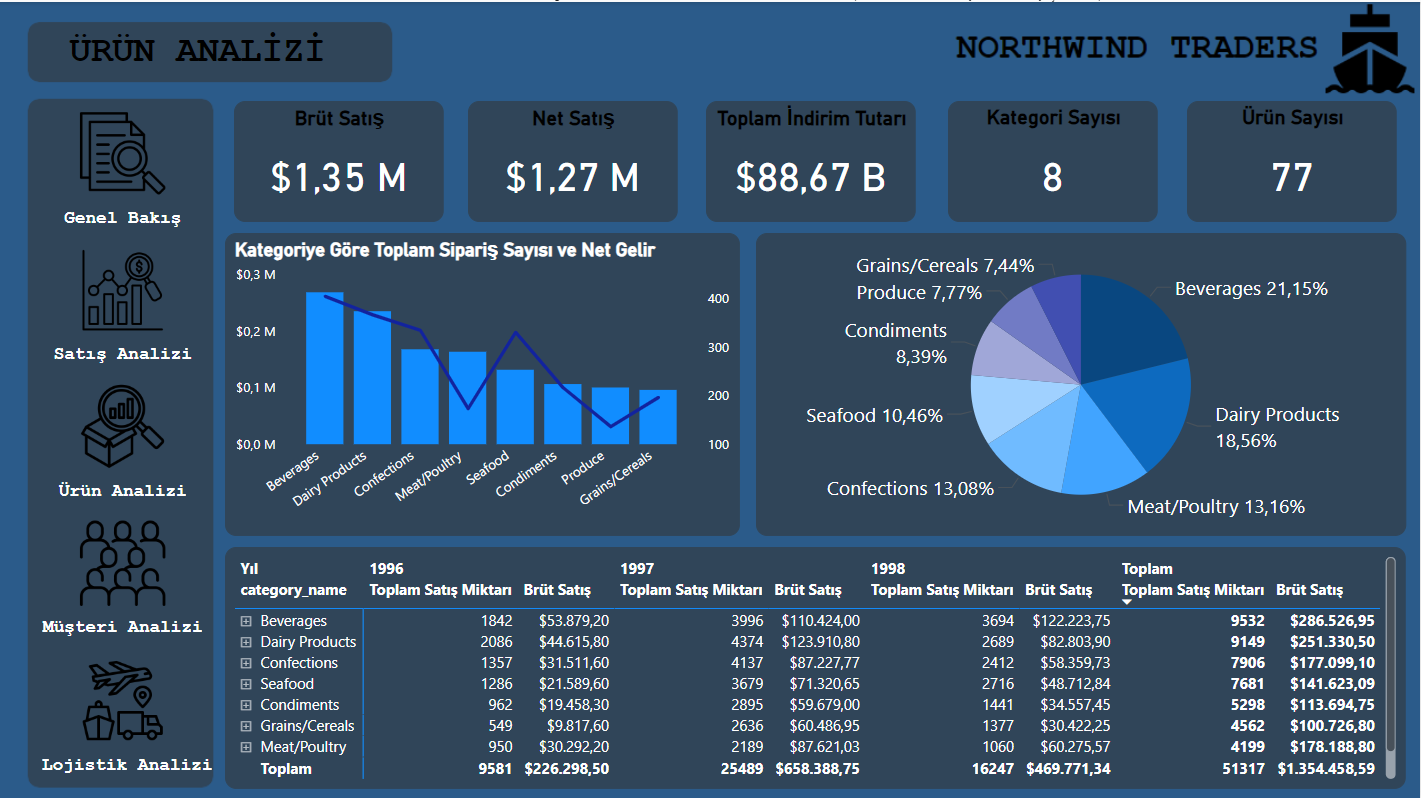

What the dashboard file says about the page in this screenshot:
{"tool":"powerbi","page":{"name":"ÜRÜN ANALİZİ","canvas":[1280,720],"ordinal":2},"visuals":[{"type":"textbox","box":[37,21,282,54],"z":0},{"type":"image","box":[27,586,167,87],"z":1000},{"type":"image","box":[27,462,167,87],"z":2000},{"type":"image","box":[27,216,167,87],"z":3000},{"type":"image","box":[27,93,167,87],"z":4000},{"type":"image","box":[27,339,167,87],"z":5000},{"type":"textbox","box":[27,673,175,36],"z":6000},{"type":"textbox","box":[27,549,167,36],"z":7000},{"type":"textbox","box":[27,426,167,36],"z":8000},{"type":"textbox","box":[27,303,167,36],"z":9000},{"type":"textbox","box":[27,180,167,36],"z":10000},{"type":"card","title":"Brüt Satış","fields":{"Values":["Hesaplamalar.Brüt Satış"]},"box":[211.1,89.5,188.7,108.9],"z":11000},{"type":"card","title":"Toplam İndirim Tutarı","fields":{"Values":["Hesaplamalar(Dax).Toplam İndirim Tutarı"]},"box":[636.1,89.5,188.7,108.9],"z":12000},{"type":"lineClusteredColumnComboChart","title":"Kategoriye Göre Toplam Sipariş Sayısı ve Net Gelir","fields":{"Category":["Kategoriye Göre Ss ve NG.category_name"],"Y2":["Sum(Kategoriye Göre Ss ve NG.total_orders)"],"Y":["Sum(Kategoriye Göre Ss ve NG.total_revenue)"]},"box":[202.3,208.1,464,273.3],"z":13000},{"type":"card","title":"Net Satış","fields":{"Values":["Hesaplamalar.Net Satış"]},"box":[422.1,89.5,188.7,108.9],"z":14000},{"type":"card","title":"Kategori Sayısı","fields":{"Values":["Hesaplamalar(Dax).Toplam Kategori Sayısı"]},"box":[854,89.5,188.7,108.9],"z":15000},{"type":"card","title":"Ürün Sayısı","fields":{"Values":["Hesaplamalar(Dax).Toplam Benzersiz Ürün Sayısı"]},"box":[1069.9,89.5,188.7,108.9],"z":16000},{"type":"pivotTable","fields":{"Values":["Hesaplamalar(Dax).Toplam Satış Miktarı","Hesaplamalar(Dax).Brüt Satış"],"Rows":["categories.category_name","products.product_name"],"Columns":["orders.order_date.Varyasyon.Tarih Hiyerarşisi.Yıl"]},"box":[202.3,491.2,1064.1,217.9],"z":17000},{"type":"pieChart","fields":{"Y":["Hesaplamalar(Dax).Brüt Satış"],"Category":["categories.category_name"]},"box":[680.9,208.1,585.5,273.3],"z":18000}]}

Visuals, with their boxes in screenshot pixels (x1, y1, x2, y2), scaled from the page's 1280x720 canvas onto the 1421x798 screenshot:
textbox: (41,23,354,83)
image: (30,649,215,746)
image: (30,512,215,608)
image: (30,239,215,336)
image: (30,103,215,200)
image: (30,376,215,472)
textbox: (30,746,224,786)
textbox: (30,608,215,648)
textbox: (30,472,215,512)
textbox: (30,336,215,376)
textbox: (30,200,215,239)
"Brüt Satış" card: (234,99,444,220)
"Toplam İndirim Tutarı" card: (706,99,916,220)
"Kategoriye Göre Toplam Sipariş Sayısı ve Net Gelir" lineClusteredColumnComboChart: (225,231,740,534)
"Net Satış" card: (469,99,678,220)
"Kategori Sayısı" card: (948,99,1158,220)
"Ürün Sayısı" card: (1188,99,1397,220)
pivotTable - Hesaplamalar(Dax).Toplam Satış Miktarı x Hesaplamalar(Dax).Brüt Satış: (225,544,1406,786)
pieChart - Hesaplamalar(Dax).Brüt Satış x categories.category_name: (756,231,1406,534)
